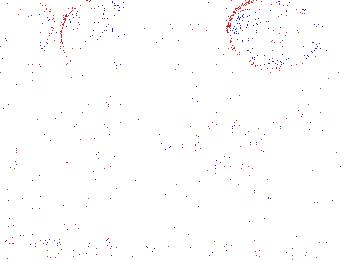moon jellyfish: (227, 1, 326, 71), (168, 123, 257, 178), (60, 1, 120, 69), (1, 1, 56, 62), (25, 74, 90, 120)
